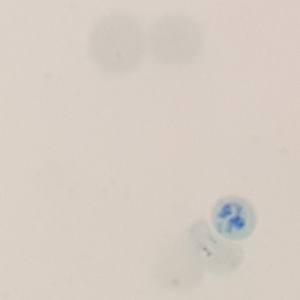aggregate reticulocyte: (209, 194, 259, 243)
erythrocyte: (148, 10, 205, 69)
punctate reticulocyte: (85, 10, 148, 77), (185, 218, 245, 276)
